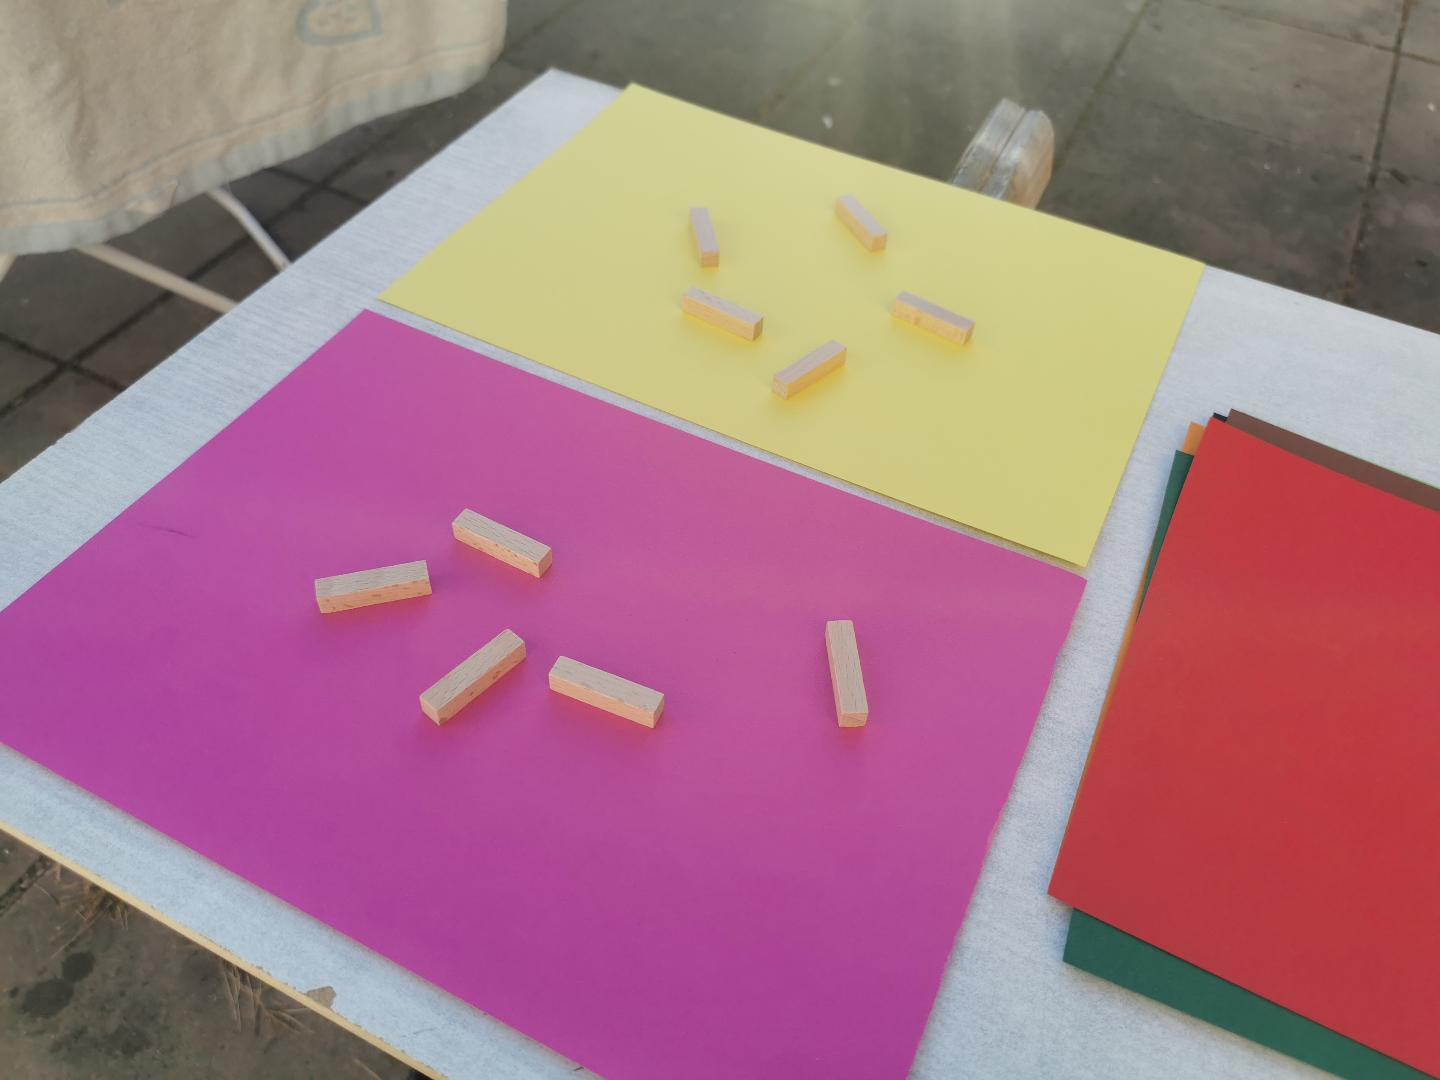jenga: (420, 630, 526, 726), (549, 656, 663, 728), (452, 509, 551, 576), (315, 559, 431, 613), (891, 289, 973, 346), (827, 618, 869, 728), (773, 340, 847, 399), (684, 287, 762, 340), (836, 194, 889, 253), (689, 208, 720, 268)
